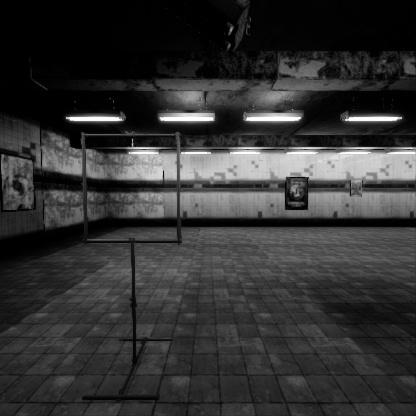gate: (81, 171, 190, 283)
